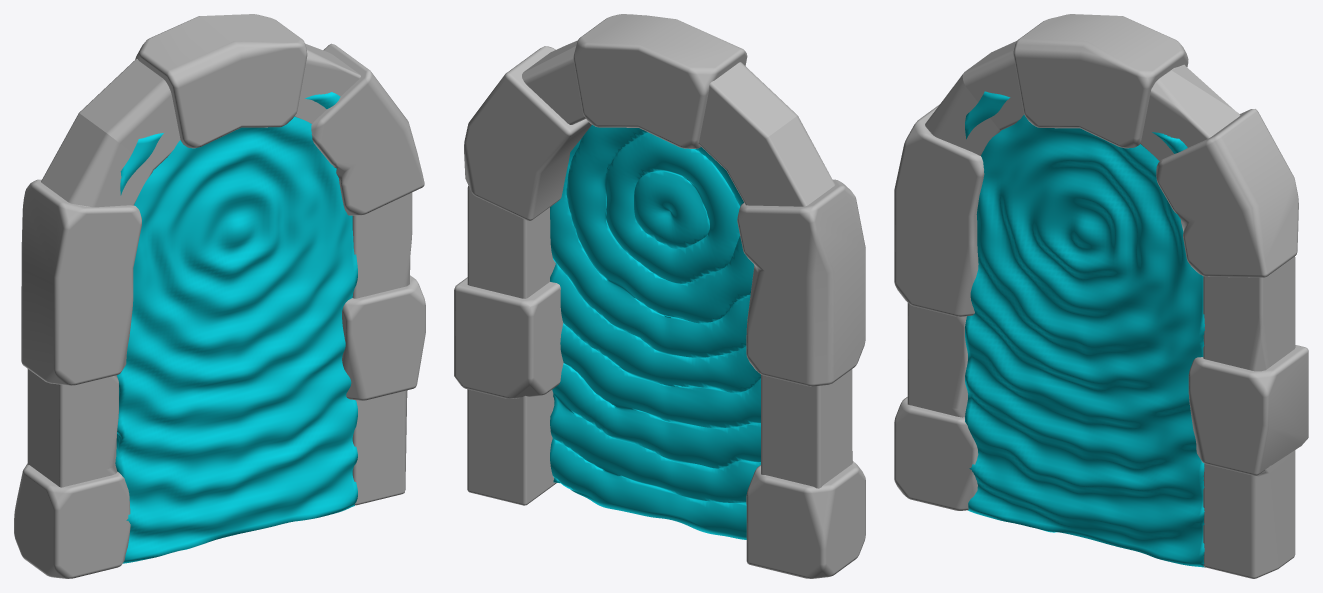
The model's file is portal.fbx.
3 renders of one model, left to right at view 1: azimuth 30°, elevation 25°; view 2: azimuth 150°, elevation 25°; view 3: azimuth 330°, elevation 25°, orthographic.
Visible parts, largest first — view 1: Plane.003, Plane.001, Plane; view 2: Plane.003, Plane.001, Plane; view 3: Plane.003, Plane.001, Plane.
Part boxes in pixels (x1,y1,x2,y2): Plane.003: [115, 92, 357, 563]; Plane.001: [14, 14, 425, 578]; Plane: [27, 43, 412, 505]; Plane.003: [550, 125, 760, 539]; Plane.001: [454, 14, 865, 578]; Plane: [467, 40, 852, 505]; Plane.003: [965, 91, 1204, 567]; Plane.001: [894, 14, 1308, 510]; Plane: [907, 41, 1295, 578].
Size of the model in its own units: 318 by 410 by 64.82.
